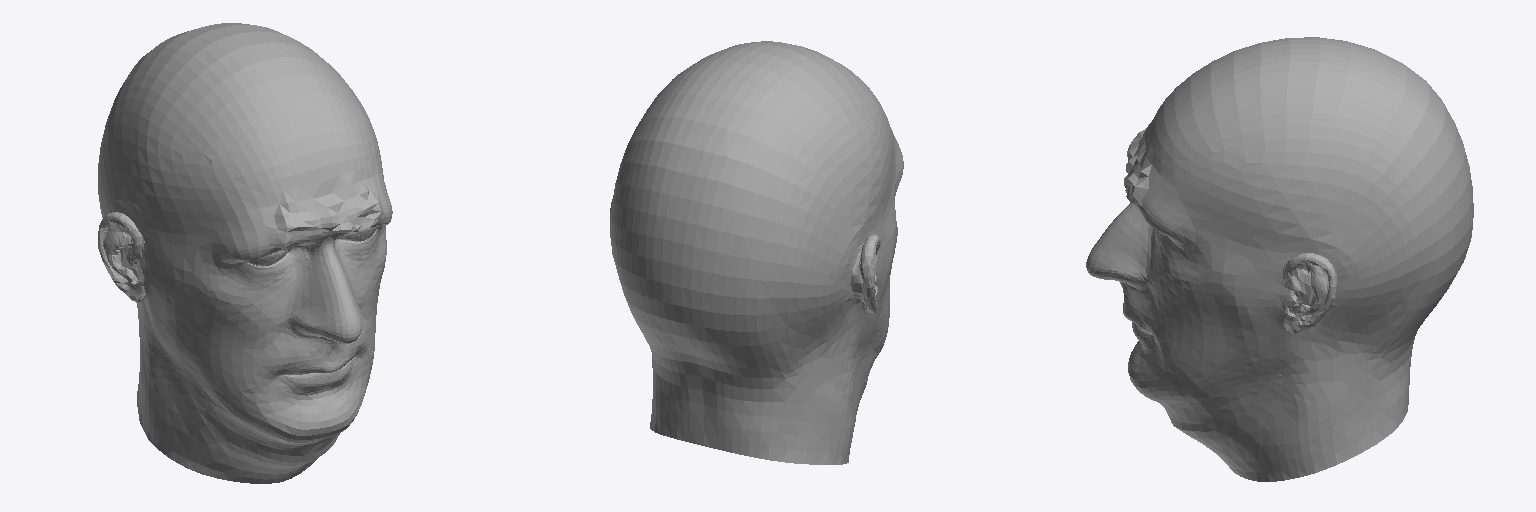
File: White Guy Face3.obj
The picture shows the model from 3 angles: view 1: azimuth 30°, elevation 25°; view 2: azimuth 150°, elevation 25°; view 3: azimuth 270°, elevation 25°; orthographic projection.
Parts seen in each view (by area): view 1: HeadHires; view 2: HeadHires; view 3: HeadHires.
Boxes of the visible parts, <box> form: HeadHires: <box>98,23,392,483</box>; HeadHires: <box>610,41,903,464</box>; HeadHires: <box>1086,37,1473,481</box>.
Bounding box in the file's own units: 188 × 282 × 240.